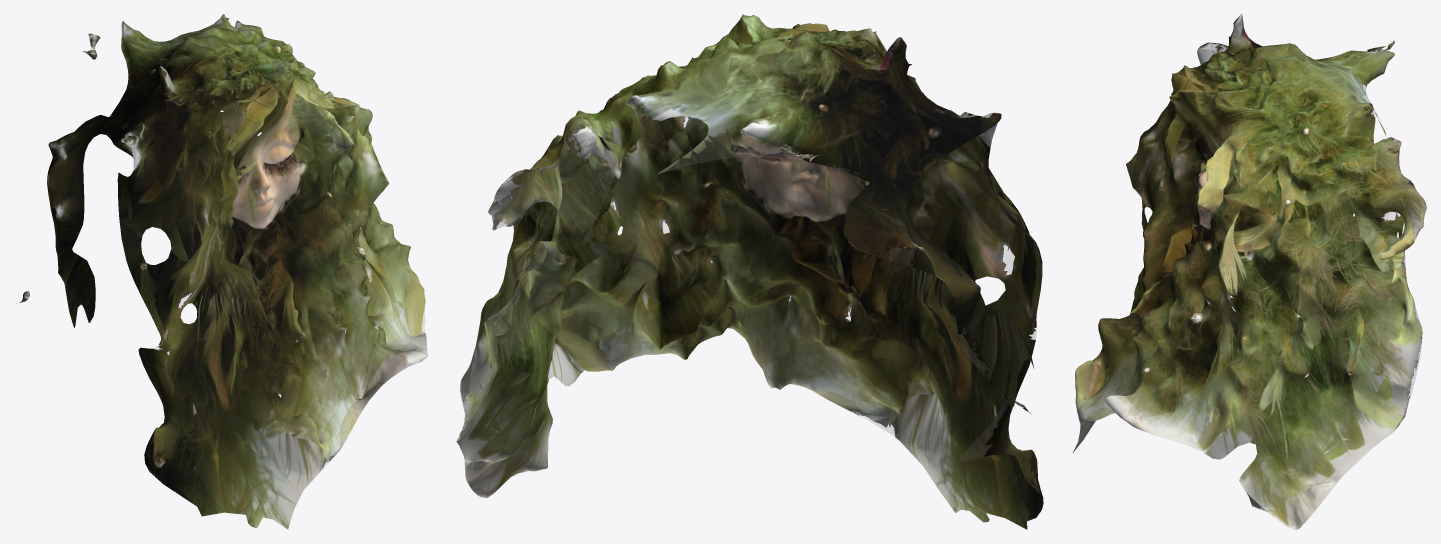
File: greenLady.glb
3 views of the same model, side by side, from view 1: azimuth 30°, elevation 25°; view 2: azimuth 150°, elevation 25°; view 3: azimuth 270°, elevation 25° (orthographic). The views are drawn at different scales.
Visible parts, largest first — view 1: greenLady; view 2: greenLady; view 3: greenLady.
Part boxes in pixels (x1=…): greenLady: x1=16, y1=14, x2=427, y2=529; greenLady: x1=456, y1=14, x2=1043, y2=529; greenLady: x1=1073, y1=14, x2=1426, y2=529.
Size of the model in its own units: 15.93 by 15.81 by 12.14.
Materials: 2 (1 with a texture image).
